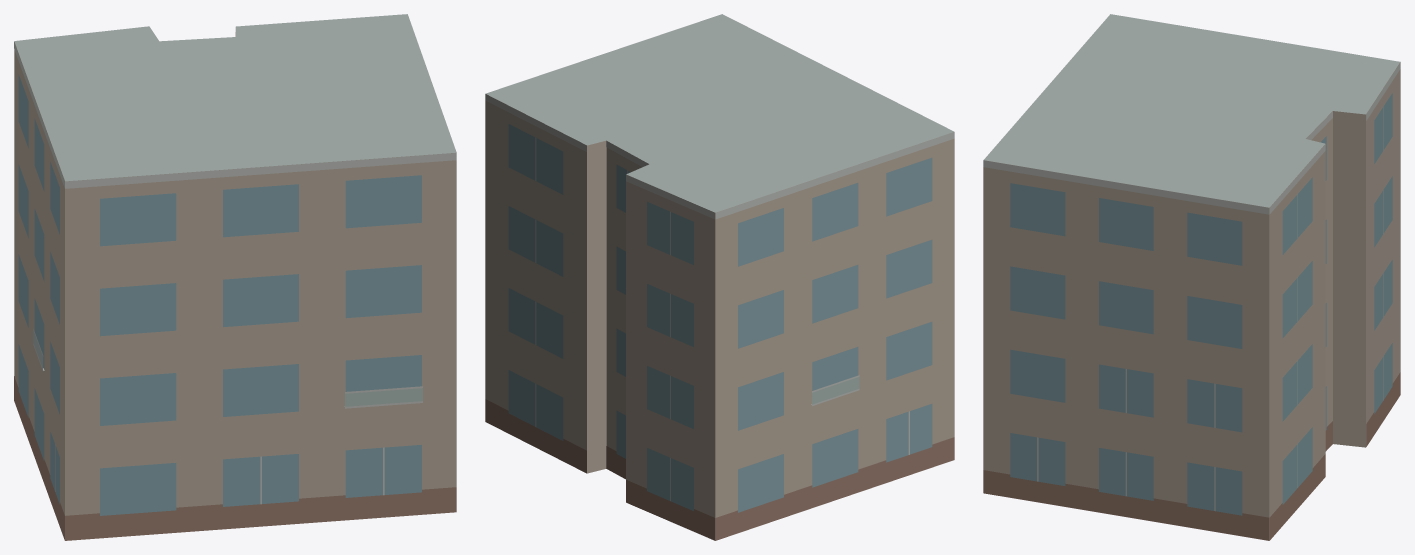
The model's file is survey-upis-32874368.glb.
3 renders of one model, left to right at view 1: azimuth 30°, elevation 25°; view 2: azimuth 150°, elevation 25°; view 3: azimuth 270°, elevation 25°, orthographic. The views are drawn at different scales.
Parts seen in each view (by area): view 1: survey-upis-32874368.tmp; view 2: survey-upis-32874368.tmp; view 3: survey-upis-32874368.tmp.
Part boxes in pixels (x1,y1,x2,y2): survey-upis-32874368.tmp: (14, 14, 456, 540); survey-upis-32874368.tmp: (485, 14, 954, 540); survey-upis-32874368.tmp: (983, 14, 1400, 540).
Bounding box in the file's own units: 14.73 × 11.8 × 13.4.
